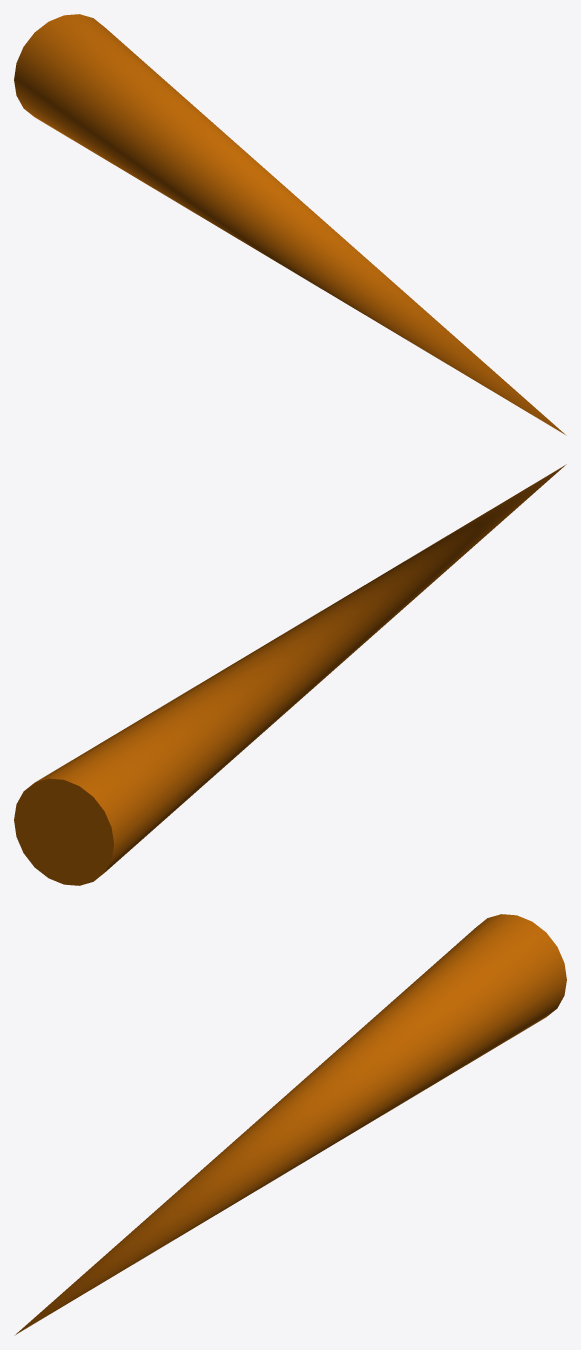
Rendered from OrangeBeamGlowing.fbx.
The picture shows the model from 3 angles, top to bottom: view 1: azimuth 30°, elevation 25°; view 2: azimuth 150°, elevation 25°; view 3: azimuth 330°, elevation 25°; orthographic projection.
Parts seen in each view (by area): view 1: pCone2; view 2: pCone2; view 3: pCone2.
Boxes of the visible parts, bbox=[...] form: pCone2: bbox=[14, 14, 566, 435]; pCone2: bbox=[14, 464, 566, 885]; pCone2: bbox=[14, 914, 566, 1335].
Size of the model in its own units: 69.03 by 69.03 by 600.
